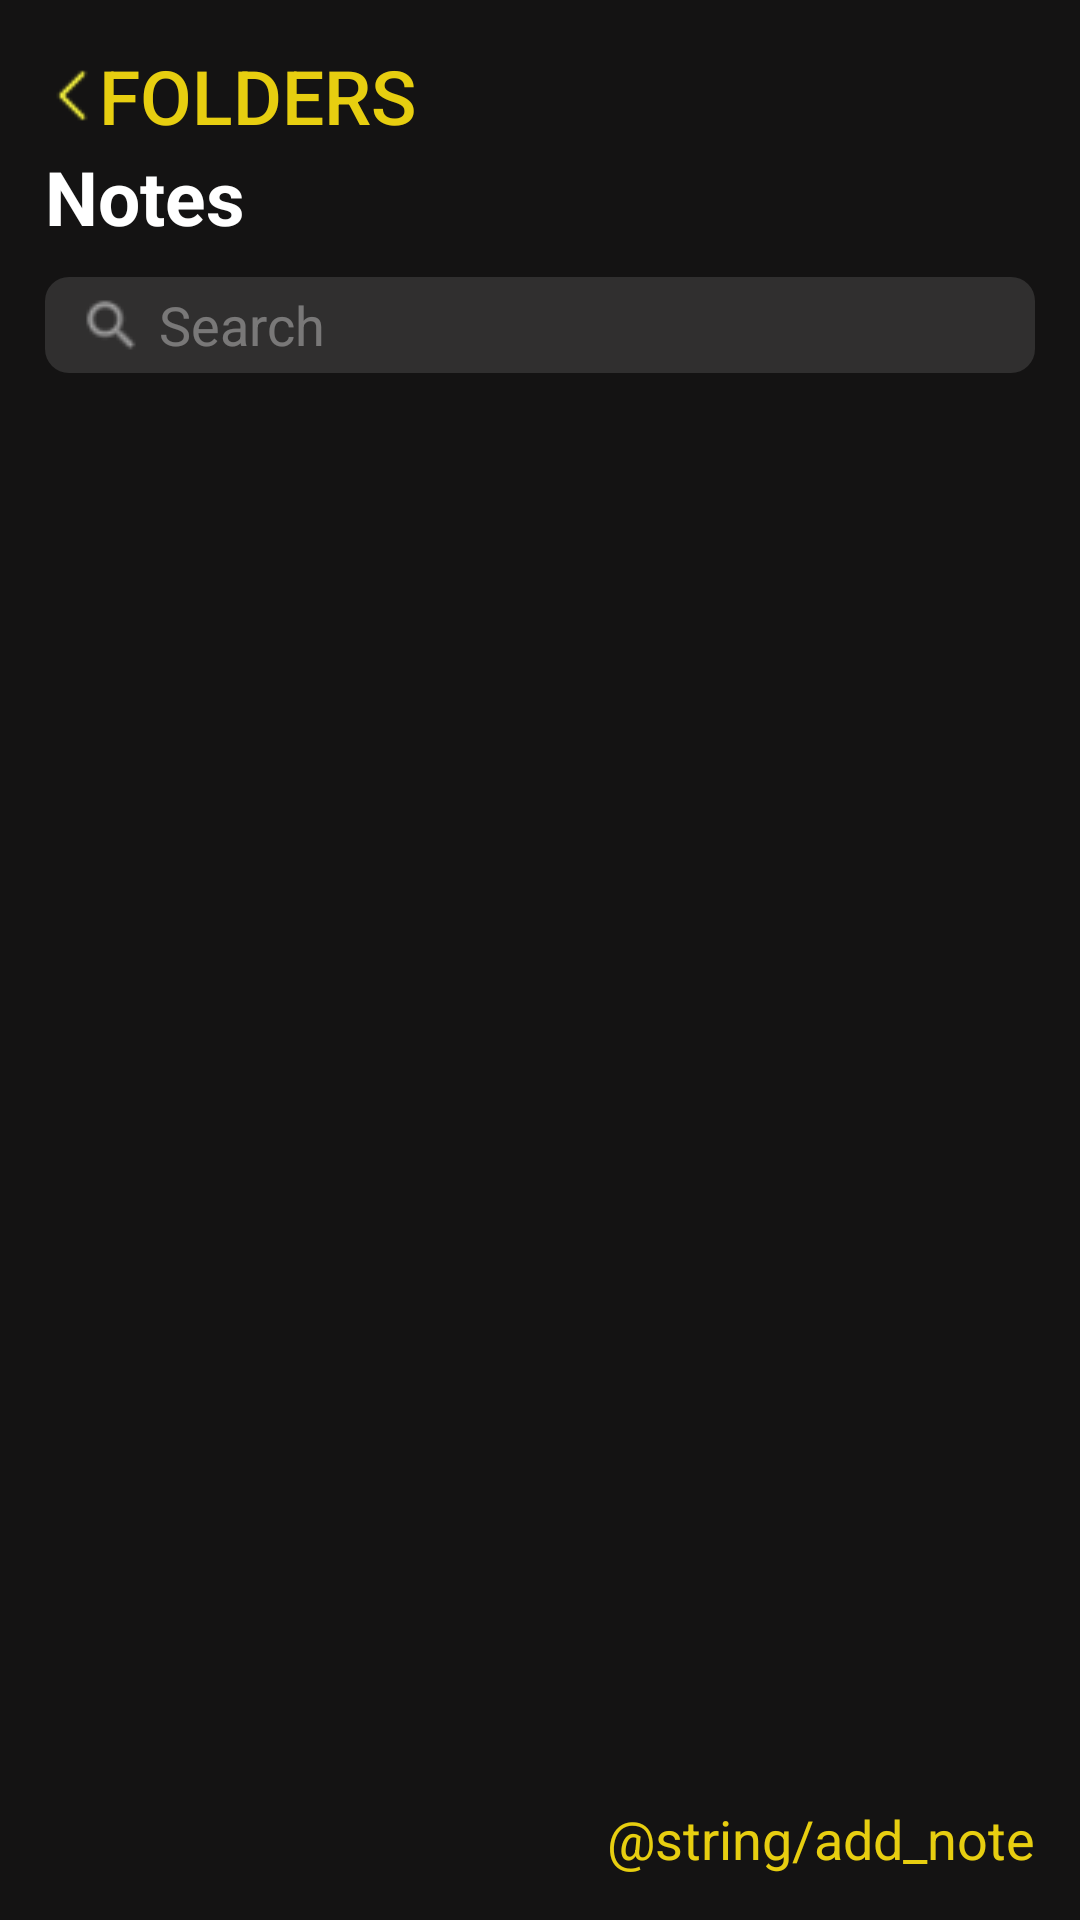

Named icons in this screenshot (1080 × 1920) and their bounding boxes, region(x1, y1, x2, y2):
chevronback: region(58, 70, 87, 121)
